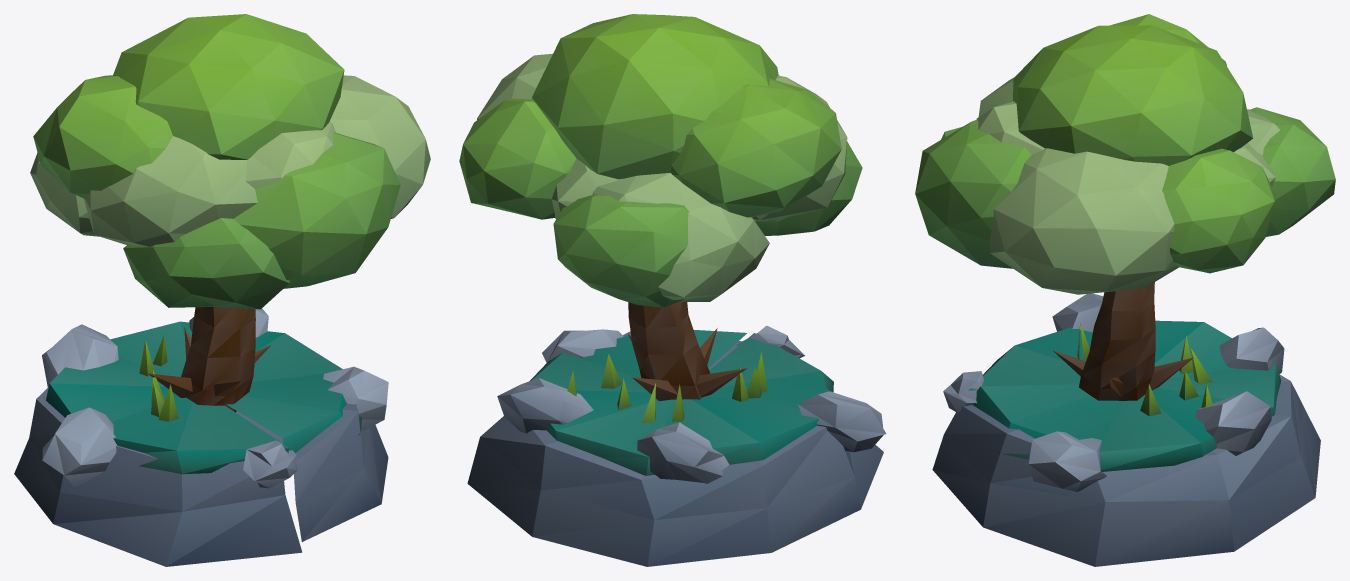
File: pohon_oak_highland_721577.glb
3 renders of one model, left to right at view 1: azimuth 30°, elevation 25°; view 2: azimuth 150°, elevation 25°; view 3: azimuth 270°, elevation 25°, orthographic. The views are drawn at different scales.
Parts seen in each view (by area): view 1: Dedaunan_Kanopi, Pulau_Batu_Tepi_Sungai, Batang_Dan_Akar; view 2: Dedaunan_Kanopi, Pulau_Batu_Tepi_Sungai, Batang_Dan_Akar; view 3: Dedaunan_Kanopi, Pulau_Batu_Tepi_Sungai, Batang_Dan_Akar.
Boxes of the visible parts, left/top/right/bottom form: Dedaunan_Kanopi: left=30, top=14, right=430, bottom=309; Pulau_Batu_Tepi_Sungai: left=14, top=308, right=388, bottom=566; Batang_Dan_Akar: left=147, top=307, right=270, bottom=412; Dedaunan_Kanopi: left=459, top=14, right=862, bottom=307; Pulau_Batu_Tepi_Sungai: left=467, top=325, right=886, bottom=566; Batang_Dan_Akar: left=628, top=302, right=746, bottom=401; Dedaunan_Kanopi: left=915, top=14, right=1335, bottom=294; Pulau_Batu_Tepi_Sungai: left=932, top=293, right=1320, bottom=566; Batang_Dan_Akar: left=1053, top=282, right=1193, bottom=400.
Size of the model in its own units: 6.05 by 6.74 by 5.66.
